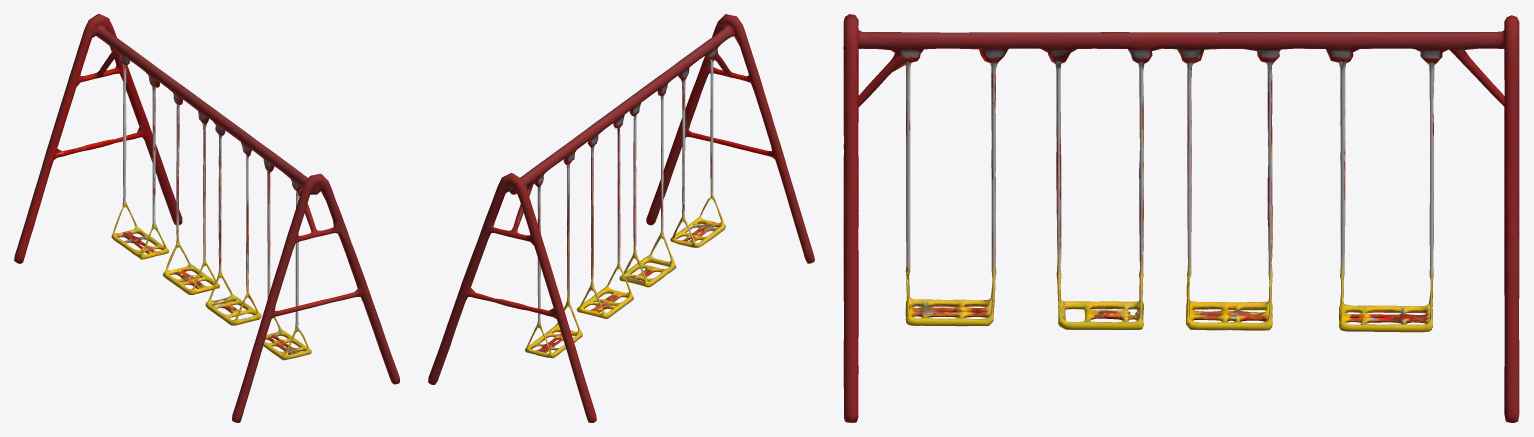
File: tripo_convert_1a29999d-dfca-4b96-9cb9-8d4efdf47962.obj
3 renders of one model, left to right at view 1: azimuth 30°, elevation 25°; view 2: azimuth 150°, elevation 25°; view 3: azimuth 270°, elevation 25°, orthographic. The views are drawn at different scales.
Parts seen in each view (by area): view 1: tripo_node_1a29999d-dfca-4b96-9cb9-8d4efdf47962; view 2: tripo_node_1a29999d-dfca-4b96-9cb9-8d4efdf47962; view 3: tripo_node_1a29999d-dfca-4b96-9cb9-8d4efdf47962.
Boxes of the visible parts, x1,y1,x2,y2 form: tripo_node_1a29999d-dfca-4b96-9cb9-8d4efdf47962: (14, 14, 399, 422); tripo_node_1a29999d-dfca-4b96-9cb9-8d4efdf47962: (428, 14, 814, 422); tripo_node_1a29999d-dfca-4b96-9cb9-8d4efdf47962: (843, 14, 1519, 422).
Size of the model in its own units: 0.4127 by 0.5393 by 0.9471.
Materials: 1 (1 with a texture image).
